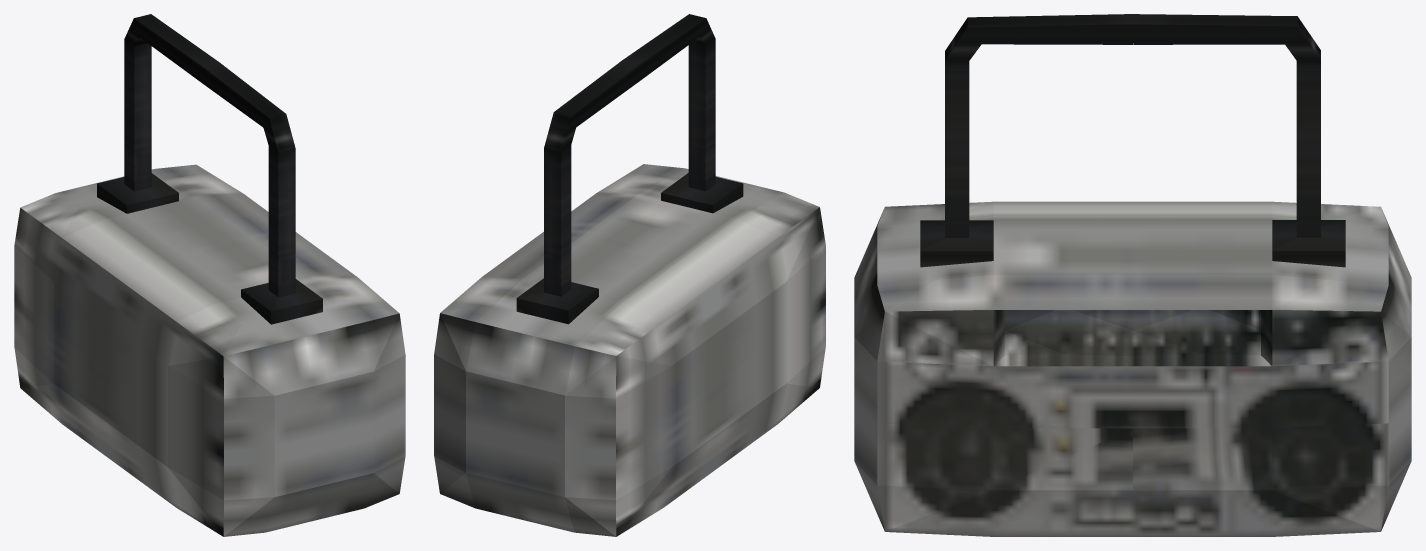
File: radio.fbx
The picture shows the model from 3 angles, left to right: view 1: azimuth 30°, elevation 25°; view 2: azimuth 150°, elevation 25°; view 3: azimuth 270°, elevation 25°; orthographic projection. The views are drawn at different scales.
Visible parts, largest first — view 1: Cube, Cube.001; view 2: Cube, Cube.001; view 3: Cube, Cube.001.
Boxes of the visible parts, x1,y1,x2,y2 form: Cube: [14, 164, 405, 536]; Cube.001: [97, 14, 322, 324]; Cube: [434, 164, 825, 536]; Cube.001: [516, 14, 743, 324]; Cube: [854, 201, 1411, 536]; Cube.001: [920, 14, 1345, 267].
Bounding box in the file's own units: 100 × 188 × 200.
